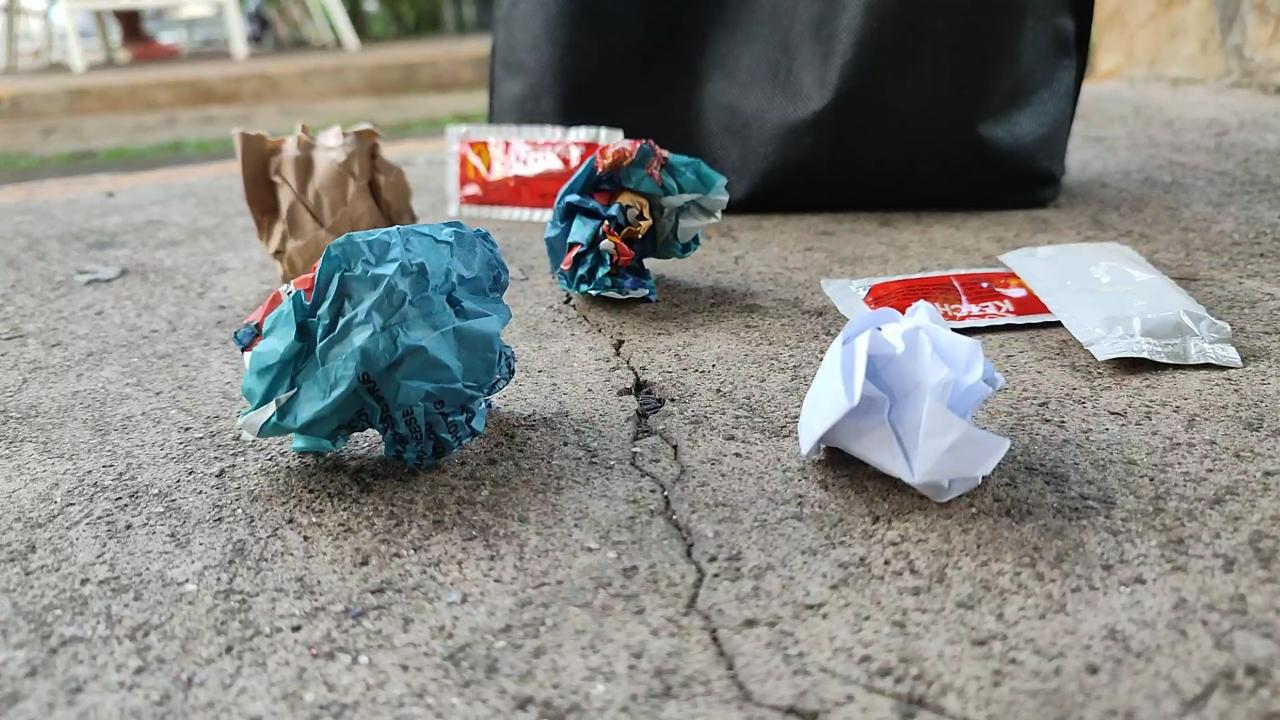Paper: (231, 215, 522, 475), (782, 328, 1014, 508), (219, 117, 436, 291), (549, 137, 728, 304)
